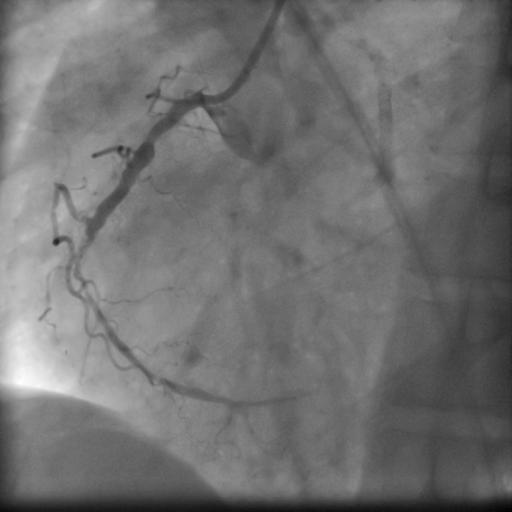Stenosis: (142, 120, 164, 149)
